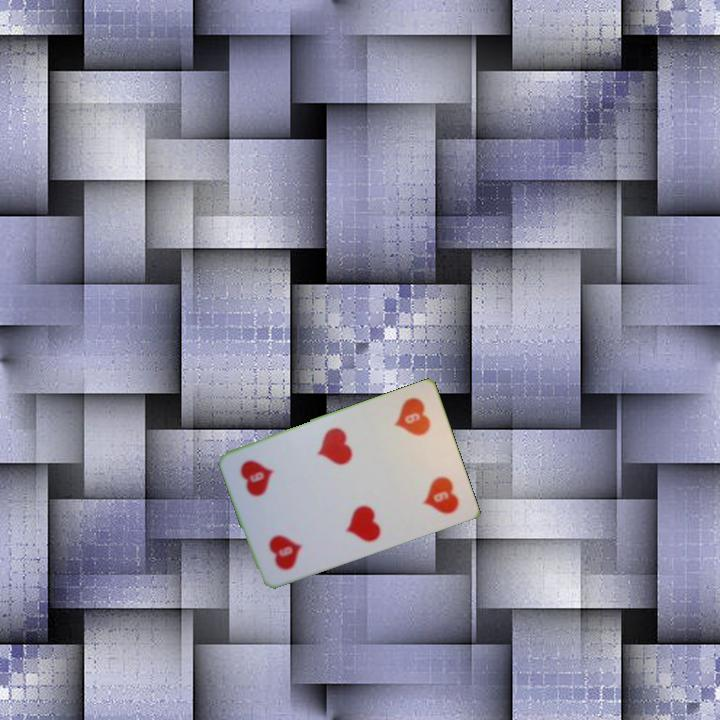h_6.png: (372, 390, 448, 471), (248, 498, 323, 579)
